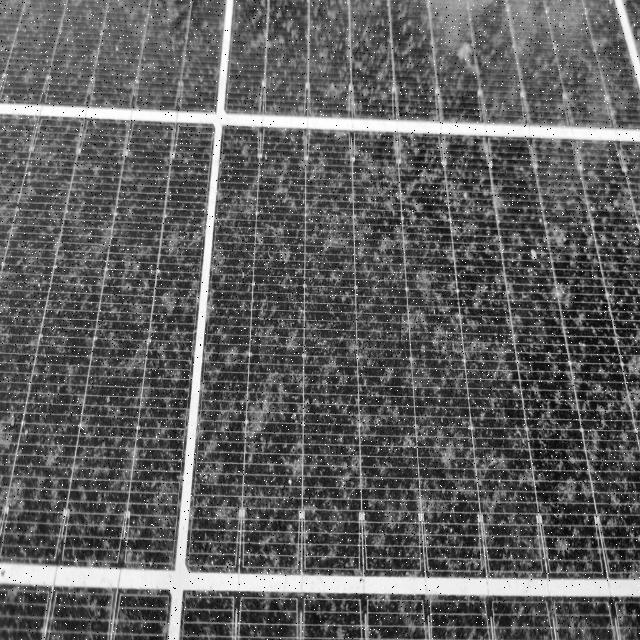dusty: (0, 3, 639, 576)
